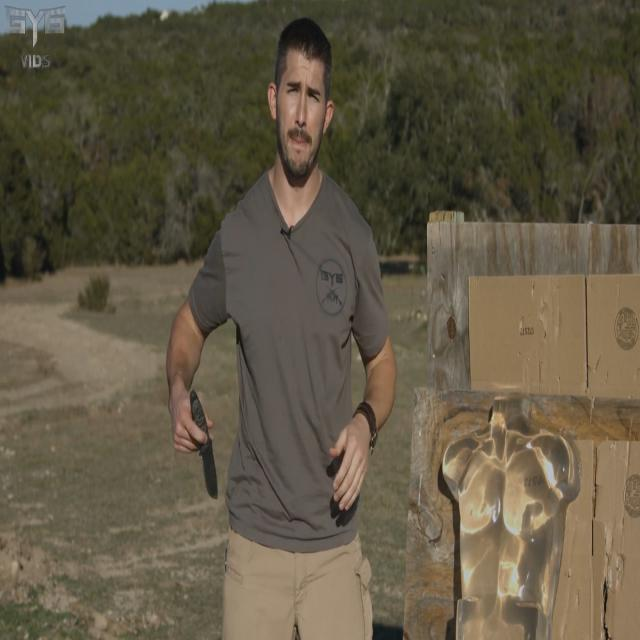knife: (189, 388, 223, 505)
